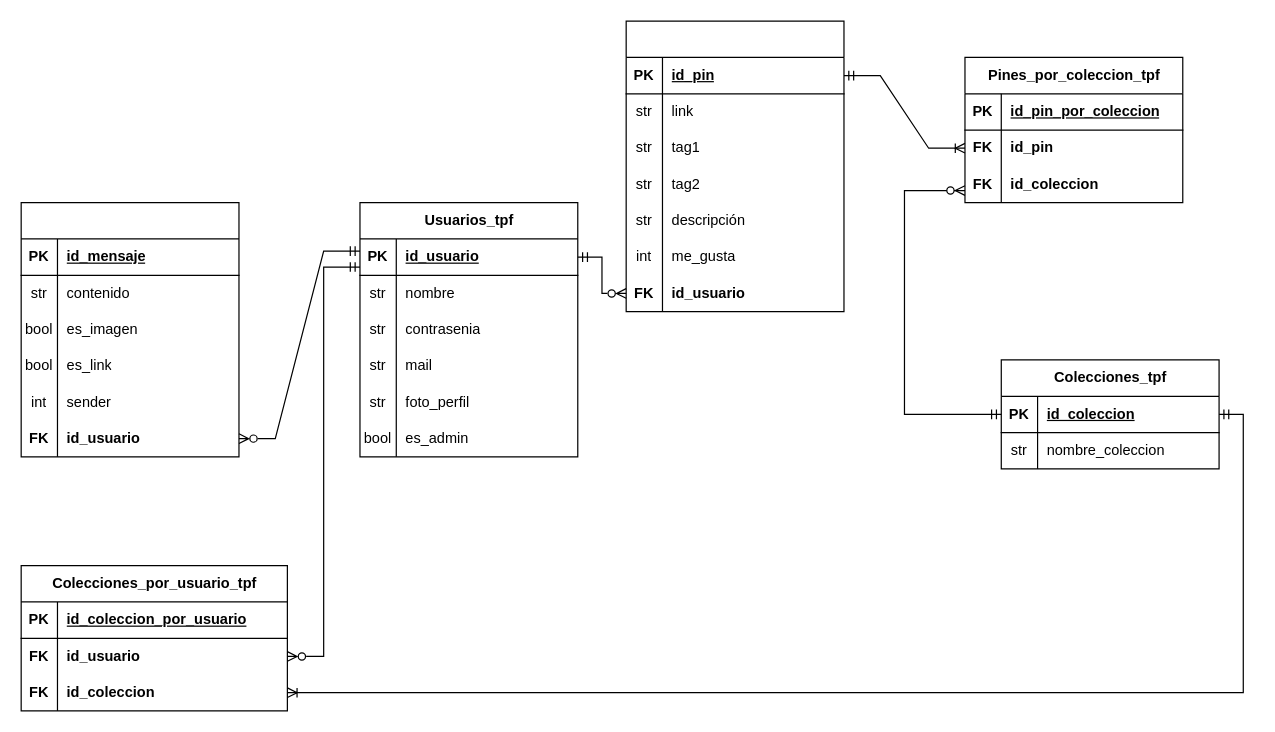
Image size: 1275x732. Some labels were removed from this diagram. The box of each missing label's shape, as (x1, y1, x2, y2) in pixels:
Mensajes: (20, 201, 239, 457)
Pines_tpf: (625, 20, 844, 312)
